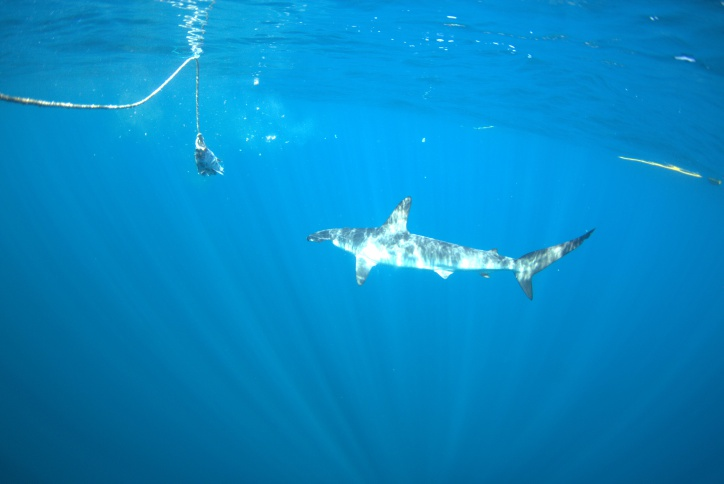Hammer: (296, 190, 597, 316)
